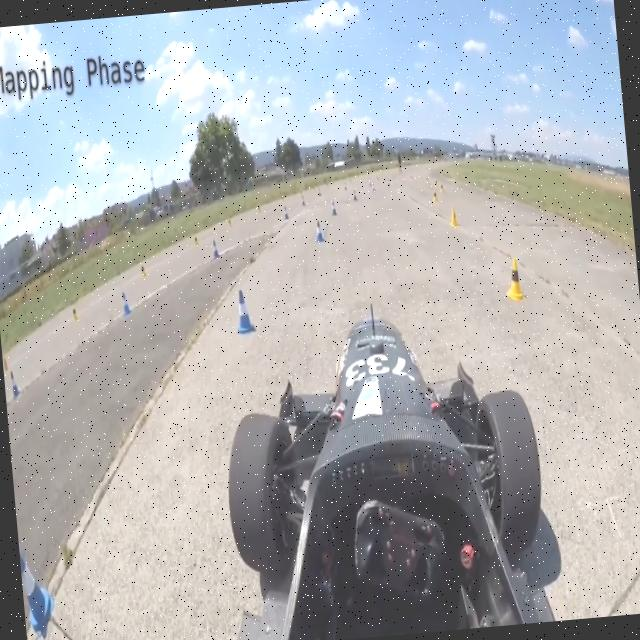blue_cone: (18, 538, 57, 635), (233, 286, 256, 334), (120, 289, 132, 316), (10, 370, 20, 400), (314, 218, 324, 242), (211, 238, 220, 259), (330, 200, 337, 216), (282, 206, 289, 220)
yellow_cone: (502, 254, 526, 304), (448, 204, 458, 227), (432, 187, 438, 202), (439, 182, 444, 194), (433, 178, 438, 188)
